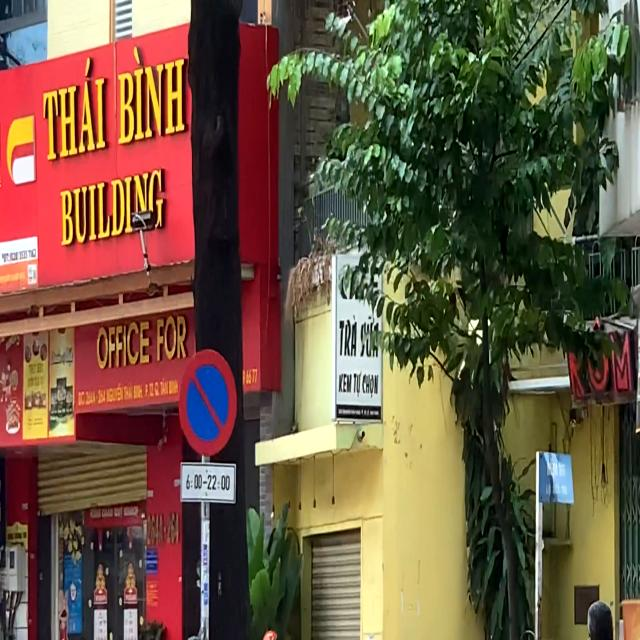P.131a: (177, 350, 240, 457)
